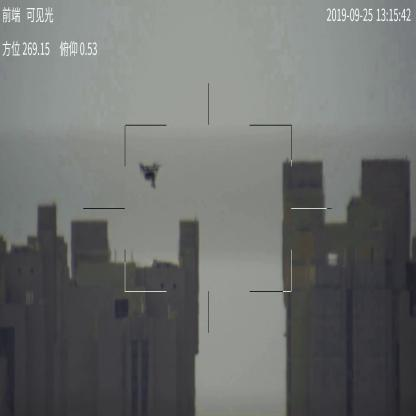uav: (140, 161, 160, 190)
